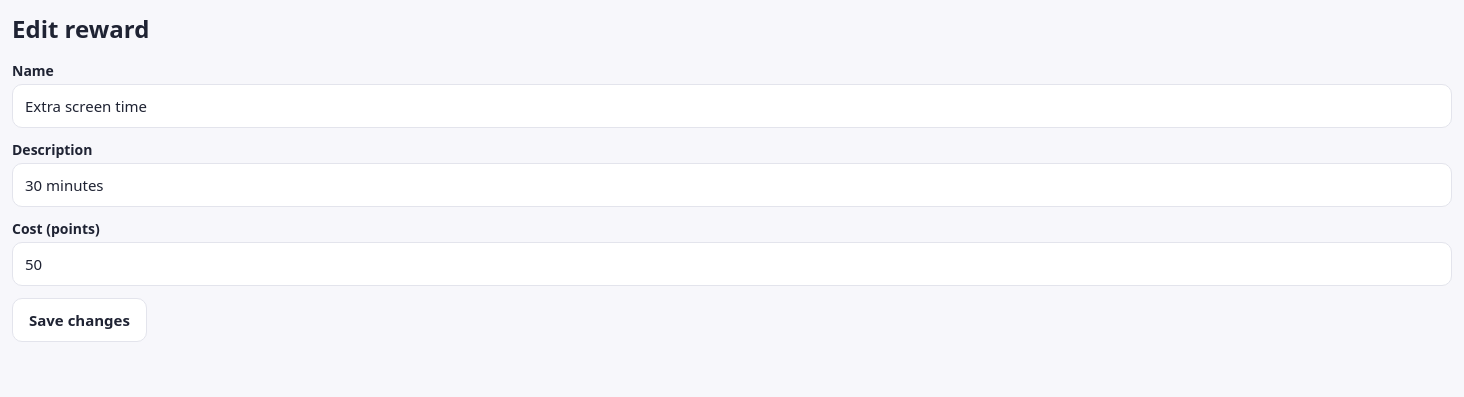
Test: EditRewardPage › displays a mutation error and preserves entered values on update failure
The width and height of the screenshot is (1464, 397).
Replace the text in the field labelled "Name" with "Renamed reward". click: (732, 106)
box: [12, 84, 1452, 128]
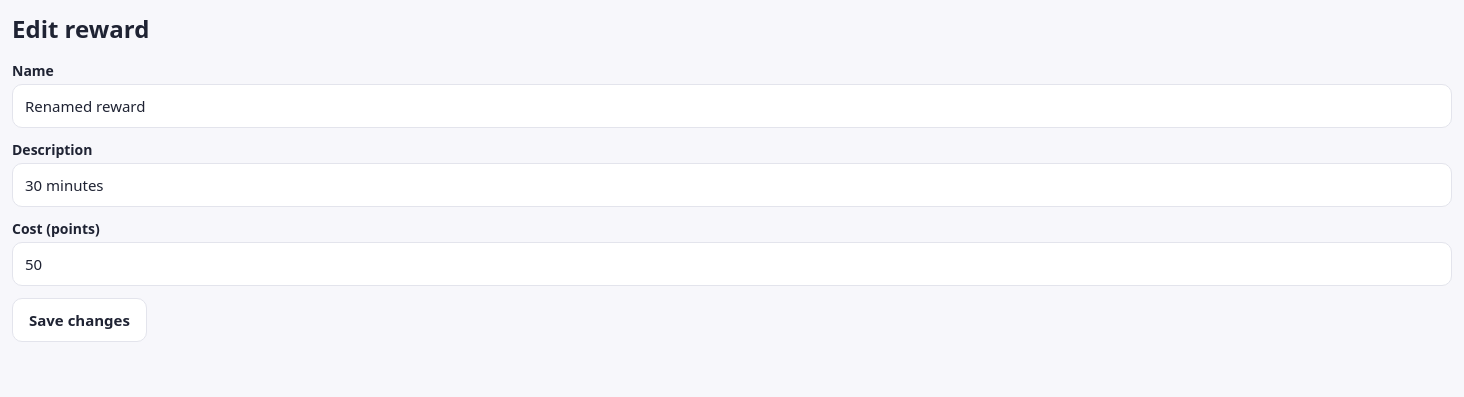
Click the button "Save changes". click: (79, 320)
box: [12, 298, 147, 342]
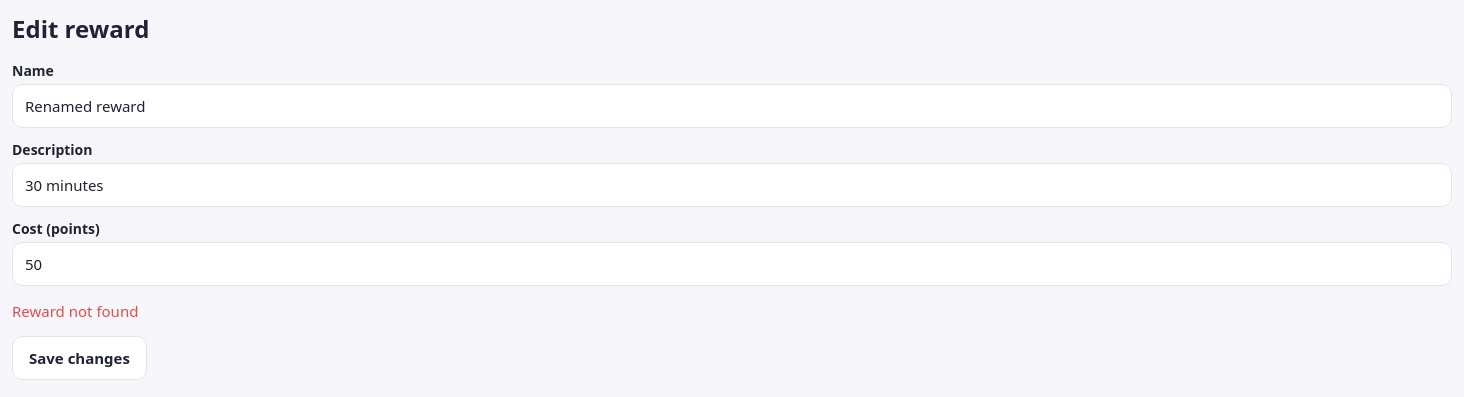
Expected: the text "Reward not found" is shown, [12, 301, 138, 321]
